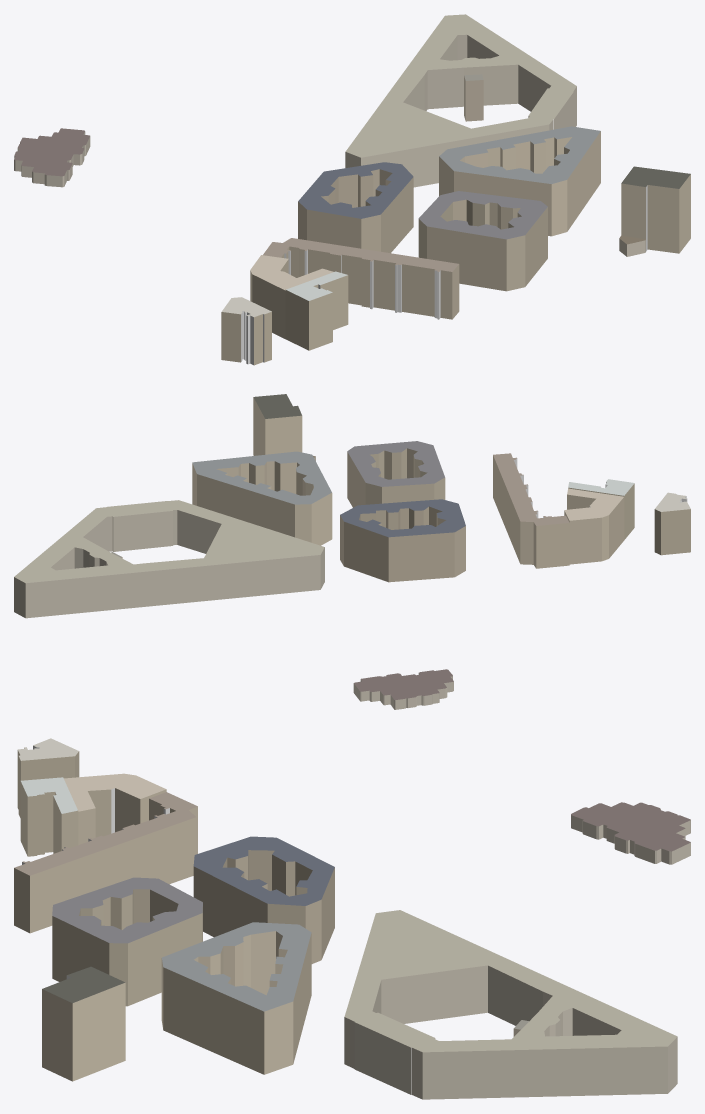
3 views of the same model, one above another, from view 1: azimuth 30°, elevation 25°; view 2: azimuth 150°, elevation 25°; view 3: azimuth 270°, elevation 25° (orthographic). The views are drawn at different scales.
Visible parts, largest first — view 1: tuile; view 2: tuile; view 3: tuile.
Part boxes in pixels (x1,y1,x2,y2): tuile: (14, 14, 690, 365); tuile: (14, 394, 690, 709); tuile: (14, 738, 690, 1099).
Size of the model in its own units: 279 by 38.61 by 266.
